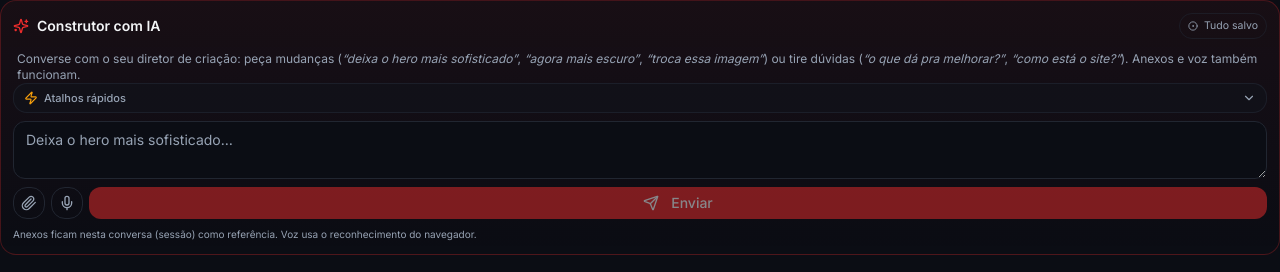
Scenario: Gravador de voz do chat — só transcreve ao PARAR e UMA vez (silêncio não finaliza) › 1) falar → parar → uma transcrição; NADA aparece durante a gravação
Click the button titled "Gravar com voz" at (67, 203), box [51,187,83,219]
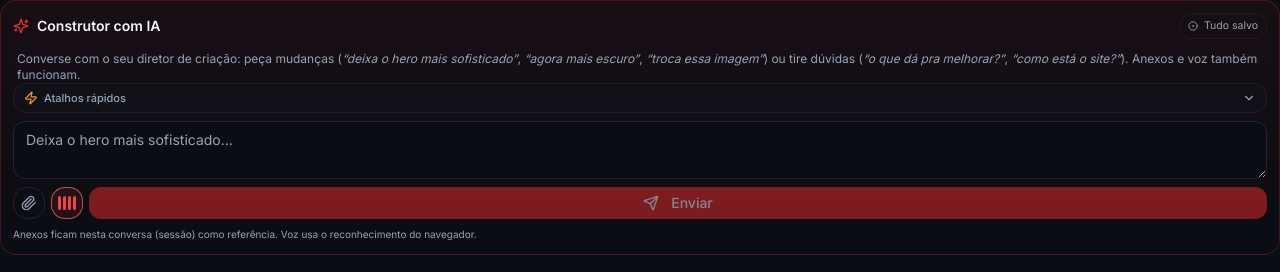
expect the text box with placeholder "Deixa o hero mais sofisticado…" is empty: met, box [13,121,1267,179]
Click the button titled "Parar gravação" at (67, 203), box [51,187,83,219]
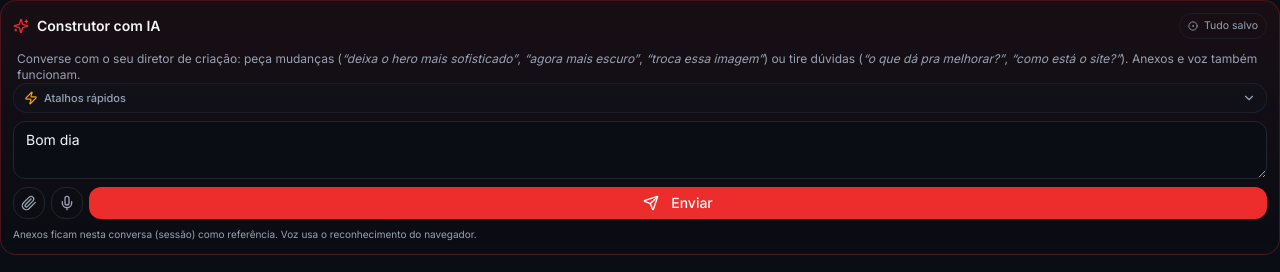
expect the text box with placeholder "Deixa o hero mais sofisticado…" holds "Bom dia": met, box [13,121,1267,179]
